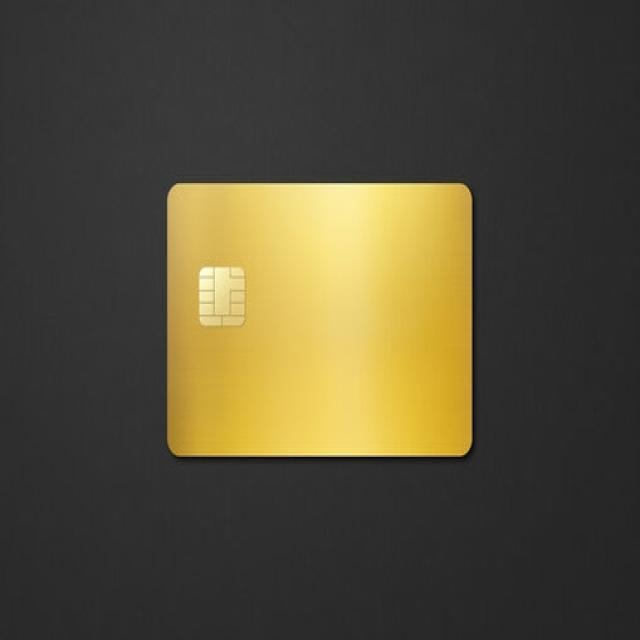payment_card: (165, 180, 474, 458)
